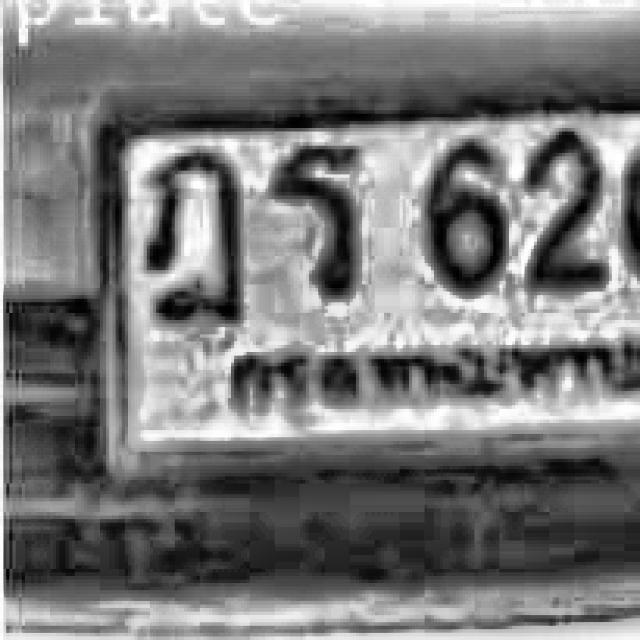license-plate: (64, 63, 640, 518)
